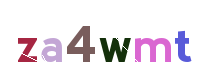4: (65, 0, 145, 80)
A: (25, 0, 105, 80)
M: (111, 0, 191, 80)
T: (129, 0, 209, 80)
W: (75, 0, 155, 80)
Z: (24, 0, 104, 80)
